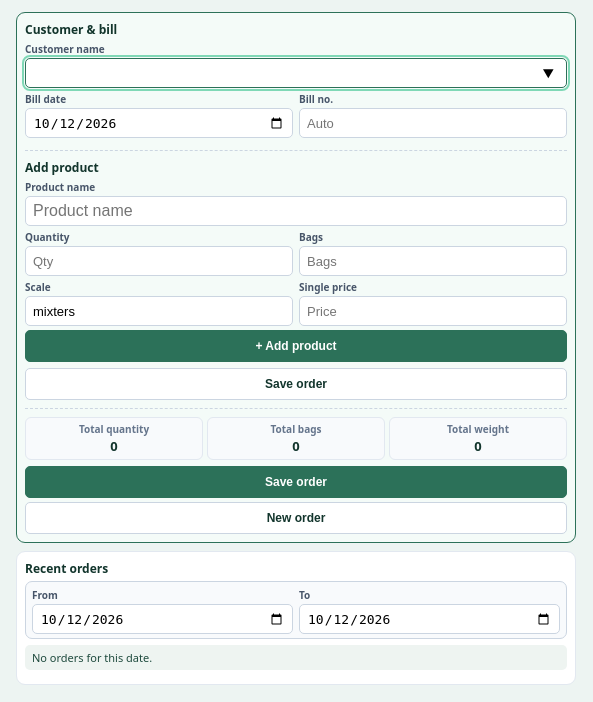
Scenario: native datalist selections preserve customer value and product price
Type "Customer One" into the field labelled "Customer name".
click(296, 73); type("Customer One")  # box top-left (25, 58), bottom-right (567, 88)
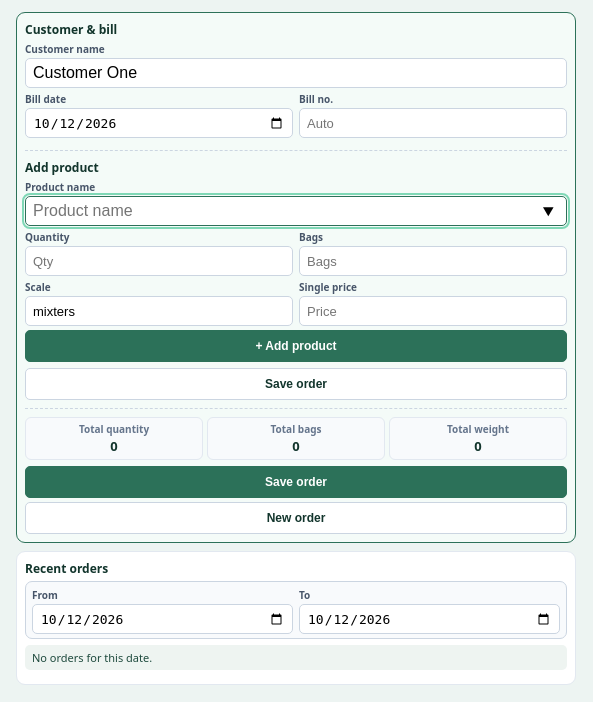
Leave the field labelled "Customer name", box top-left (25, 58), bottom-right (567, 88)
Type "Product One" into the field labelled "Product name".
click(296, 211); type("Product One")  # box top-left (25, 196), bottom-right (567, 226)
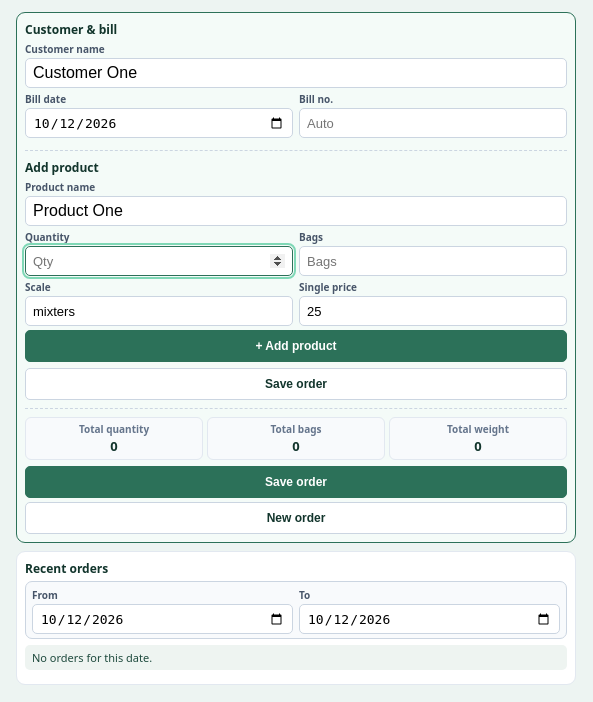
expect the number field labelled "Single price" holds "25": met, box top-left (299, 296), bottom-right (567, 326)
